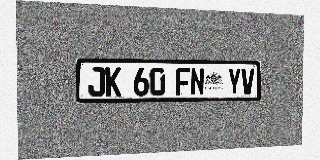0: (150, 67, 165, 96)
6: (134, 67, 149, 96)
F: (175, 68, 190, 96)
J: (88, 67, 105, 97)
K: (105, 67, 121, 97)
N: (190, 68, 205, 95)
V: (241, 68, 254, 95)
Y: (227, 68, 241, 95)
